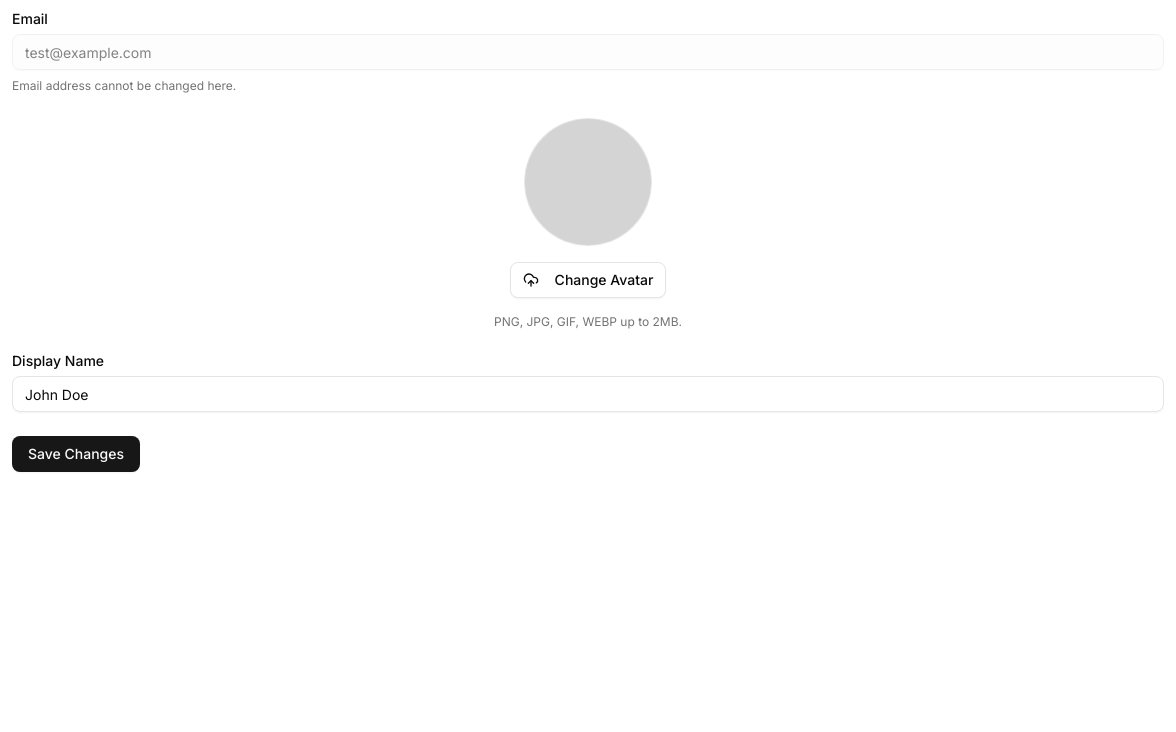
Scenario: ProfileForm › should display error message when update fails
Step 1. Replace the text in the field showing "John Doe" with "Jane Doe" → (588, 394), box top-left (12, 376), bottom-right (1164, 412)
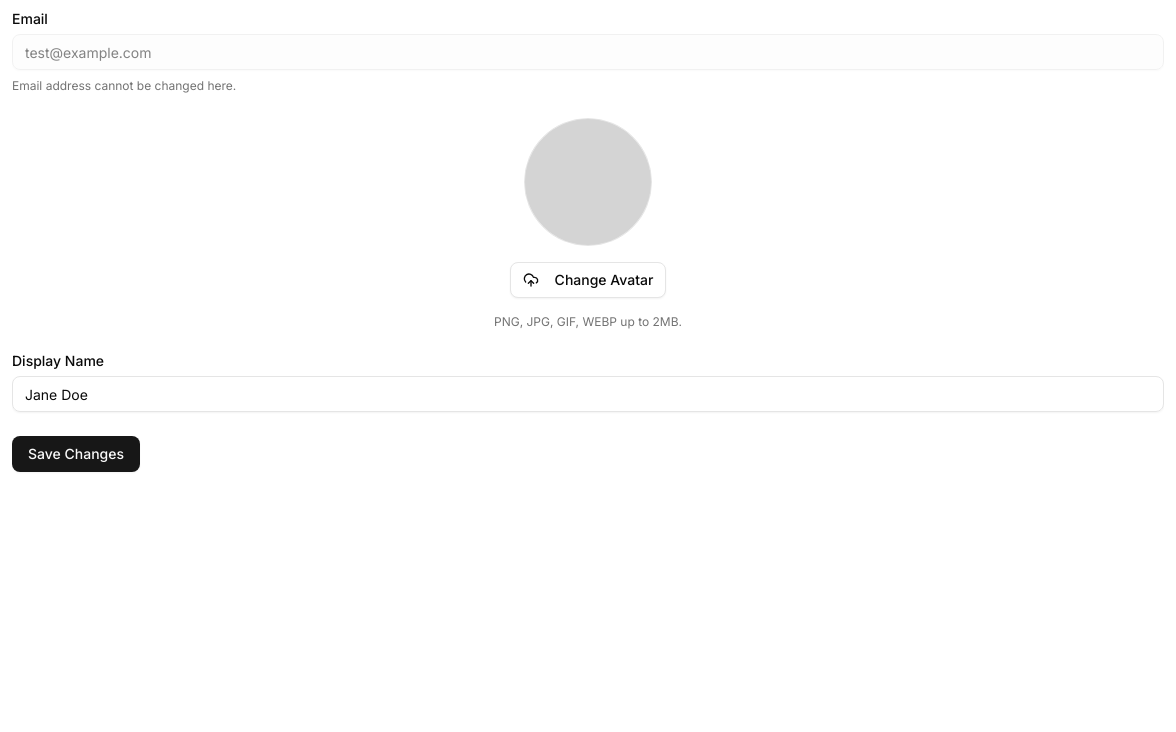
Step 2. Click the button "Save Changes" → (76, 454), box top-left (12, 436), bottom-right (140, 472)
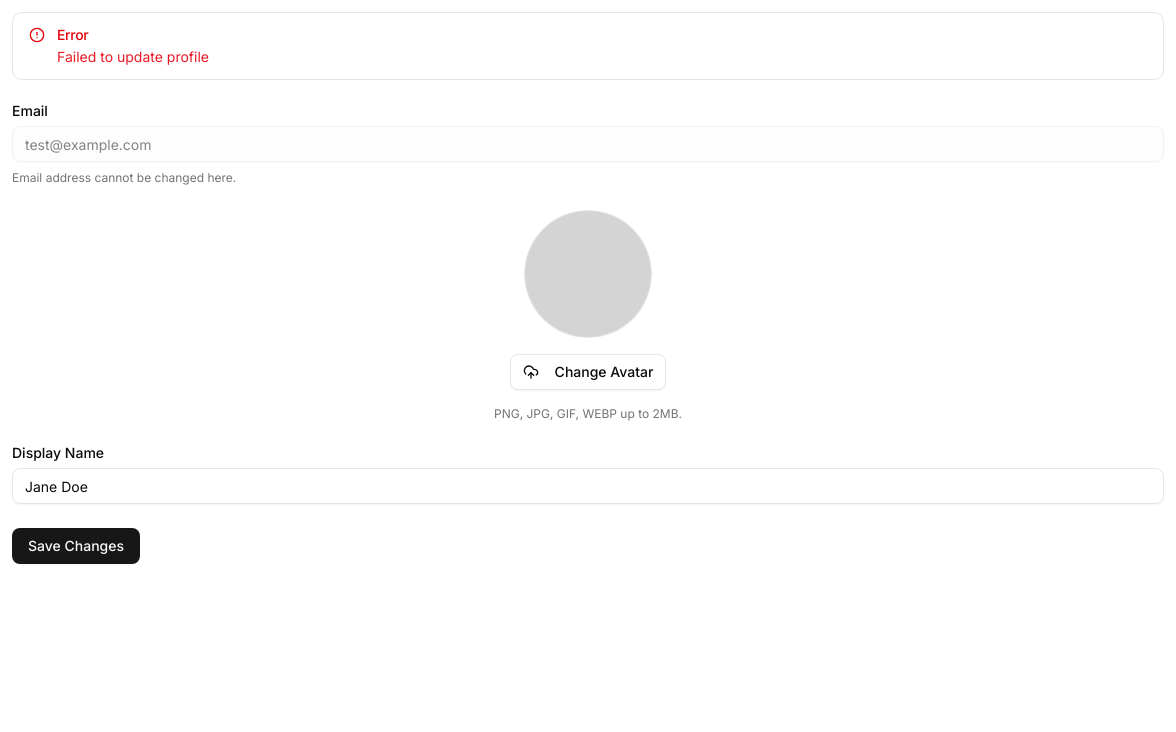
Result: the text "Failed to update profile" is shown at top-left (57, 48), bottom-right (209, 65)
